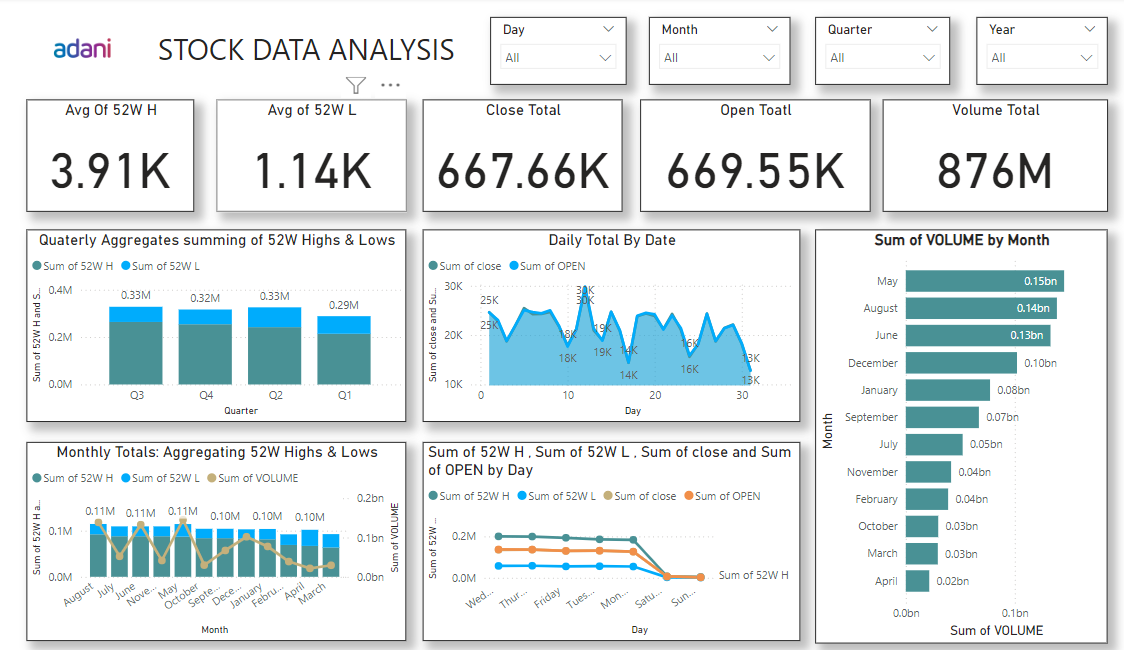

This screenshot's page, from the dashboard's own definition file:
{"tool":"powerbi","page":{"name":"Page 1","canvas":[1280,720],"ordinal":0},"visuals":[{"type":"slicer","fields":{"Values":["ADANI ENTERPRISES LIMITED.Day"]},"box":[550.3,22,149.6,74.1],"z":0},{"type":"slicer","fields":{"Values":["ADANI ENTERPRISES LIMITED.Month"]},"box":[724.5,22,155.1,74.1],"z":1000},{"type":"slicer","fields":{"Values":["ADANI ENTERPRISES LIMITED.Quarter"]},"box":[907,22,148.2,74.1],"z":2000},{"type":"slicer","fields":{"Values":["ADANI ENTERPRISES LIMITED.Year"]},"box":[1084.1,22,144.1,74.1],"z":3000},{"type":"card","title":"Avg Of 52W H","fields":{"Values":["Avg(ADANI ENTERPRISES LIMITED.52W H )"]},"box":[41.2,112.5,183.9,123.5],"z":4000},{"type":"card","title":"Avg of 52W L","fields":{"Values":["Avg(ADANI ENTERPRISES LIMITED.52W L )"]},"box":[249.7,112.5,208.6,123.5],"z":5000},{"type":"card","title":"Close Total","fields":{"Values":["Sum(ADANI ENTERPRISES LIMITED.close )"]},"box":[476.2,112.5,219.6,123.5],"z":6000},{"type":"card","title":"Open Toatl","fields":{"Values":["Sum(ADANI ENTERPRISES LIMITED.OPEN )"]},"box":[714.9,112.5,252.5,123.5],"z":7000},{"type":"card","title":"Volume Total","fields":{"Values":["Sum(ADANI ENTERPRISES LIMITED.VOLUME )"]},"box":[981.1,112.5,247,123.5],"z":8000},{"type":"columnChart","title":"Quaterly Aggregates summing of 52W Highs & Lows","fields":{"Y":["Sum(ADANI ENTERPRISES LIMITED.52W H )","Sum(ADANI ENTERPRISES LIMITED.52W L )"],"Category":["ADANI ENTERPRISES LIMITED.Quarter"]},"box":[41.2,255.2,417.2,211.3],"z":9000},{"type":"lineStackedColumnComboChart","title":"Monthly Totals: Aggregating 52W Highs & Lows","fields":{"Category":["ADANI ENTERPRISES LIMITED.Month"],"Y":["Sum(ADANI ENTERPRISES LIMITED.52W H )","Sum(ADANI ENTERPRISES LIMITED.52W L )"],"Y2":["Sum(ADANI ENTERPRISES LIMITED.VOLUME )"]},"box":[41.2,488.5,417.2,218.2],"z":10000},{"type":"lineChart","title":"Daily Total By Date","fields":{"Y":["Sum(ADANI ENTERPRISES LIMITED.close )","Sum(ADANI ENTERPRISES LIMITED.OPEN )"],"Category":["ADANI ENTERPRISES LIMITED.Date .Variation.Date Hierarchy.Day"]},"box":[476.2,255.2,414.4,211.3],"z":11000},{"type":"lineChart","fields":{"Y":["Sum(ADANI ENTERPRISES LIMITED.52W H )","Sum(ADANI ENTERPRISES LIMITED.52W L )","Sum(ADANI ENTERPRISES LIMITED.close )","Sum(ADANI ENTERPRISES LIMITED.OPEN )"],"Category":["ADANI ENTERPRISES LIMITED.Day"]},"box":[476.2,488.5,414.4,218.2],"z":12000},{"type":"clusteredBarChart","fields":{"Category":["ADANI ENTERPRISES LIMITED.Month"],"Y":["Sum(ADANI ENTERPRISES LIMITED.VOLUME )"]},"box":[907,255.2,321.1,454.2],"z":13000},{"type":"image","box":[41.2,16.5,122.1,79.6],"z":14000},{"type":"textbox","box":[168.8,30.2,367.8,57.6],"z":15000}]}

Visuals, with their boxes in screenshot pixels (x1, y1, x2, y2), scaled from the page's 1280x720 canvas onto the 1124x650 screenshot:
slicer - ADANI ENTERPRISES LIMITED.Day: (483,20,615,87)
slicer - ADANI ENTERPRISES LIMITED.Month: (636,20,772,87)
slicer - ADANI ENTERPRISES LIMITED.Quarter: (796,20,927,87)
slicer - ADANI ENTERPRISES LIMITED.Year: (952,20,1079,87)
"Avg Of 52W H" card: (36,102,198,213)
"Avg of 52W L" card: (219,102,402,213)
"Close Total" card: (418,102,611,213)
"Open Toatl" card: (628,102,849,213)
"Volume Total" card: (862,102,1078,213)
"Quaterly Aggregates summing of 52W Highs & Lows" columnChart: (36,230,403,421)
"Monthly Totals: Aggregating 52W Highs & Lows" lineStackedColumnComboChart: (36,441,403,638)
"Daily Total By Date" lineChart: (418,230,782,421)
lineChart - Sum(ADANI ENTERPRISES LIMITED.52W H ) x Sum(ADANI ENTERPRISES LIMITED.52W L ): (418,441,782,638)
clusteredBarChart - ADANI ENTERPRISES LIMITED.Month x Sum(ADANI ENTERPRISES LIMITED.VOLUME ): (796,230,1078,640)
image: (36,15,143,87)
textbox: (148,27,471,79)
